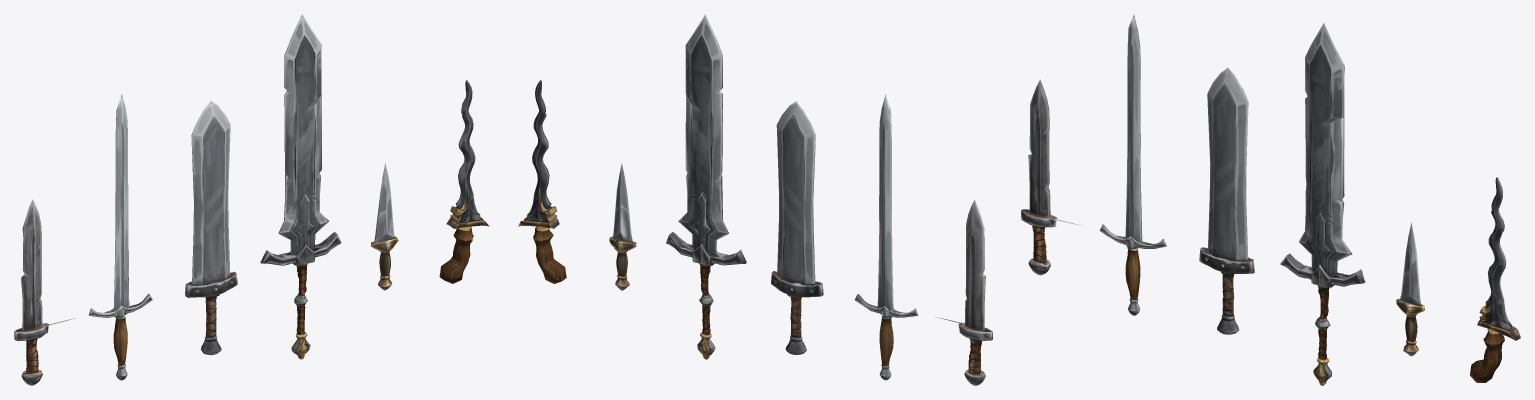
The model's file is sheet_blades.glb.
3 renders of one model, left to right at view 1: azimuth 30°, elevation 25°; view 2: azimuth 150°, elevation 25°; view 3: azimuth 330°, elevation 25°, orthographic. The views are drawn at different scales.
Size of the model in its own units: 0.9507 by 0.6626 by 0.0396.
1 material, 1 textured.
